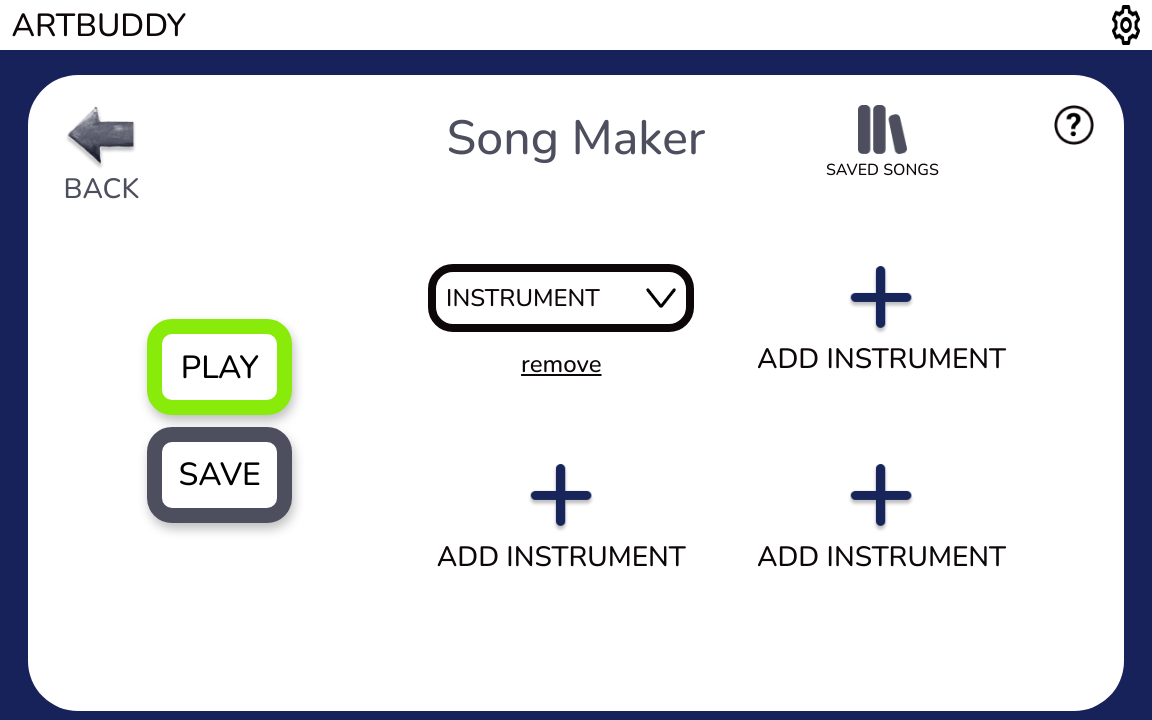
Test: SongMaker component › saves a song
Click the button "SAVE" at (220, 475), box [147,427,292,523]
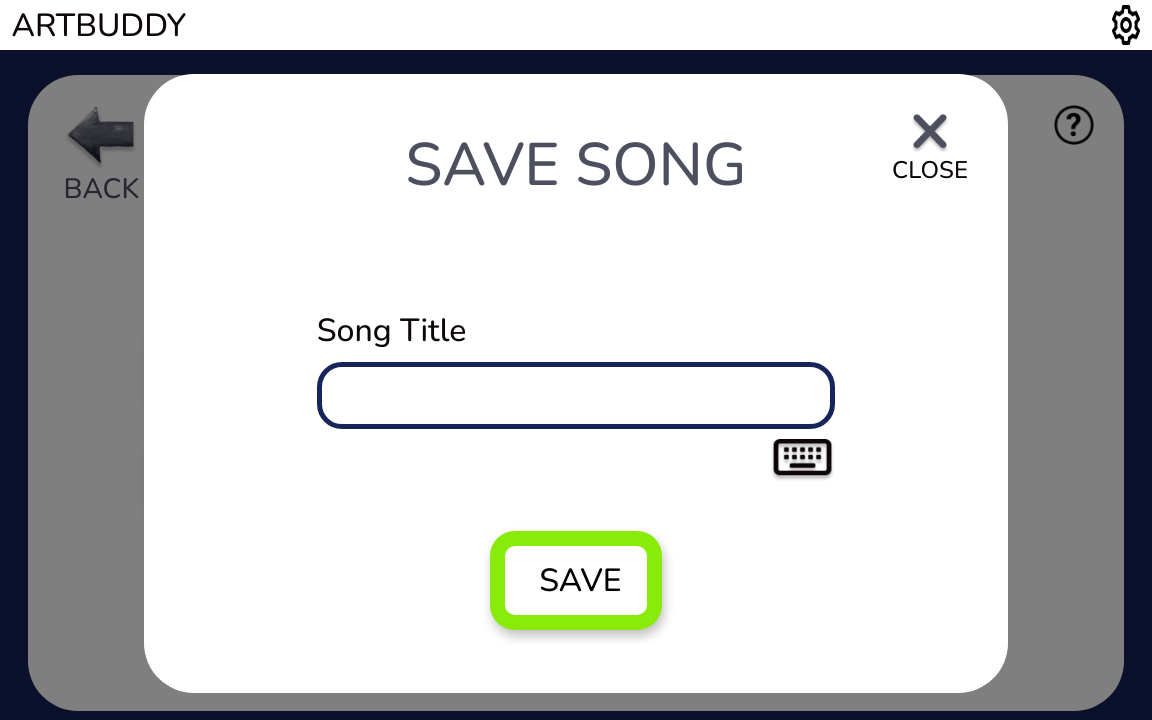
Expected: the heading "SAVE SONG" is shown, [405,124,747,206]
Type "Regular Baby" into the field labelled "Song Title" at (576, 395), box [317,362,835,429]
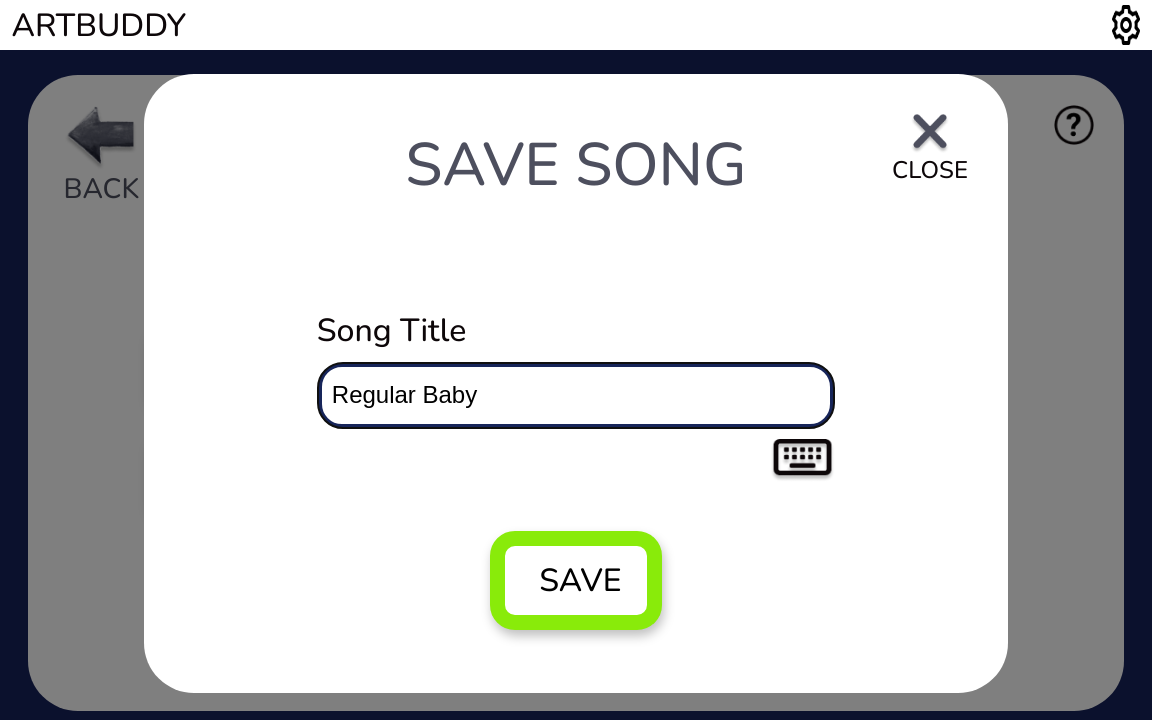
Click the button "SAVE" at (576, 581), box [490,531,662,630]
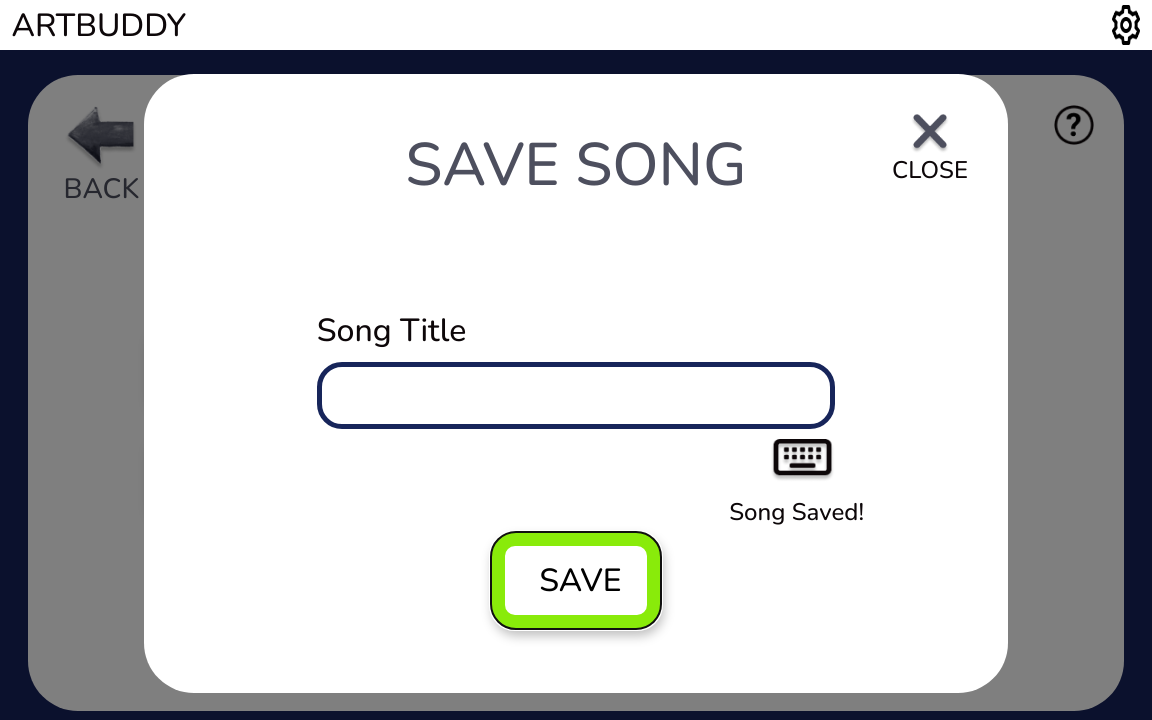
Expected: the text "Song Saved!" is shown, [729,496,864,528]
Click the text "CLOSE" at (930, 170), box [892,154,968,186]
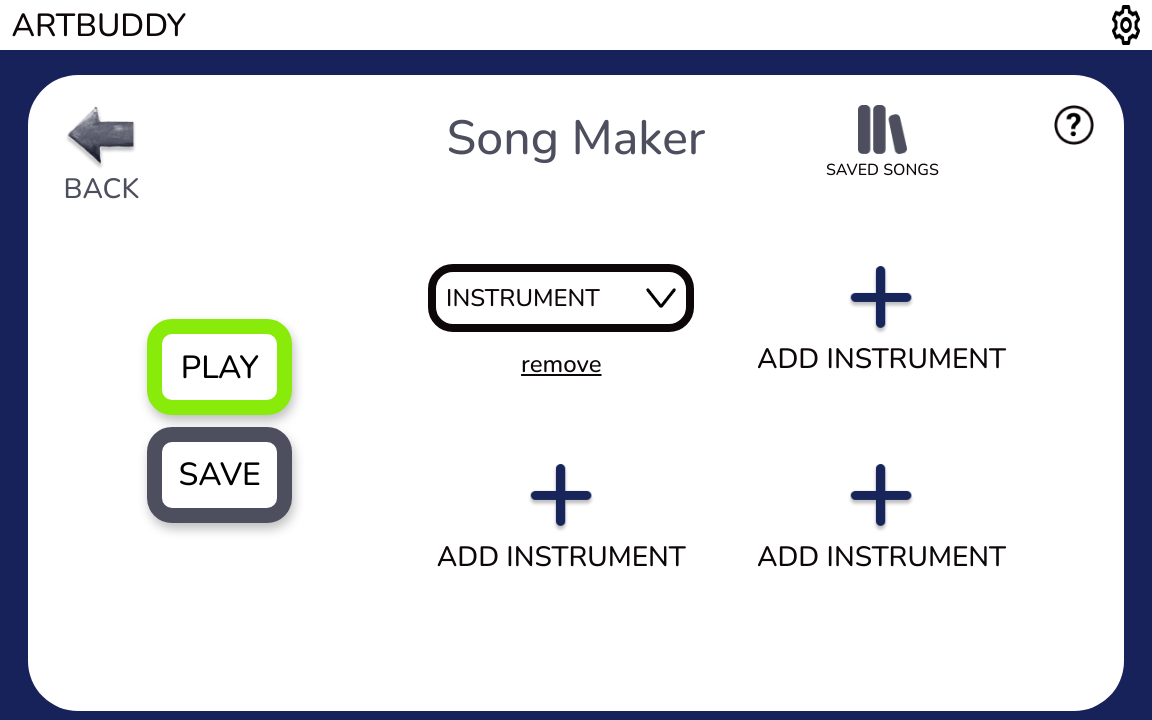
Click the text "SAVED SONGS" at (882, 168), box [826,154,939,181]
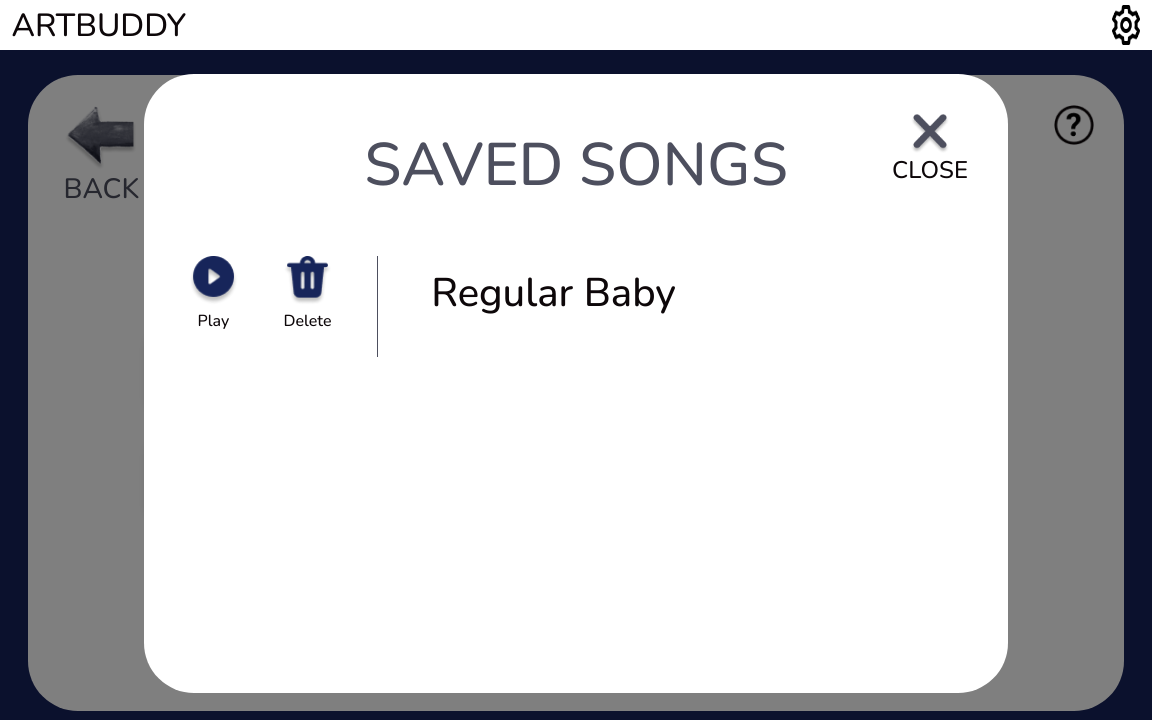
Expected: the text "Regular Baby" is shown, [431,266,676,320]
